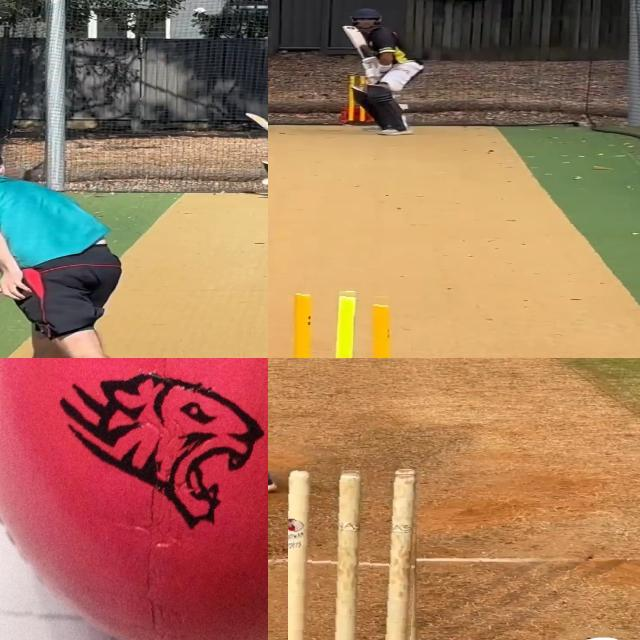Cricket ball: (0, 358, 268, 640), (259, 177, 268, 186)
Stumps: (287, 468, 420, 640), (272, 285, 411, 358)
